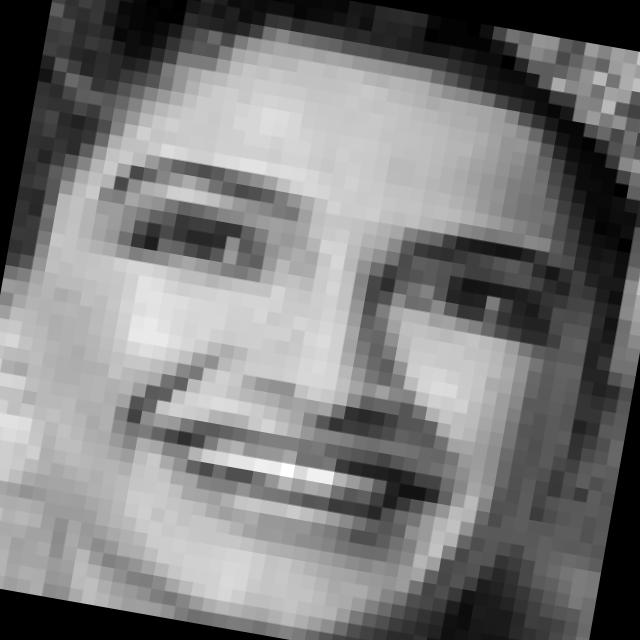happy: (34, 148, 578, 596)
